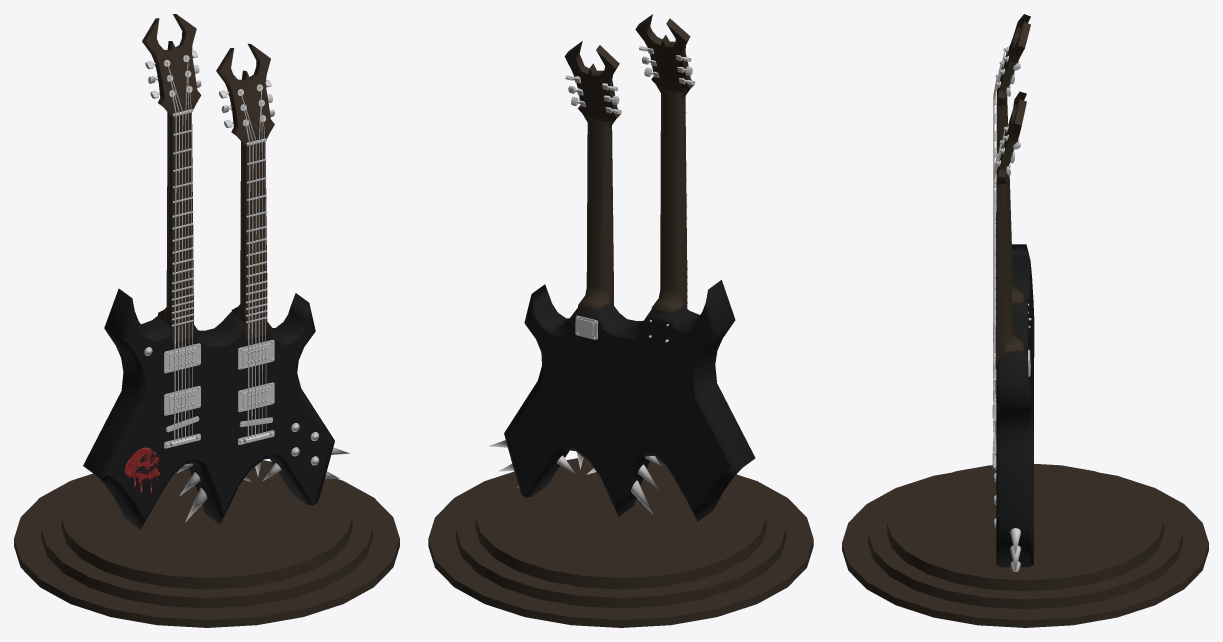
Rendered from guitardouble.glb.
3 renders of one model, left to right at view 1: azimuth 30°, elevation 25°; view 2: azimuth 150°, elevation 25°; view 3: azimuth 270°, elevation 25°, orthographic. The views are drawn at different scales.
Visible parts, largest first — view 1: pCylinder185, polySurface429_black_lack_0, polySurface429_darkwood_0, polySurface429_chrome_0, polySurface429_lambert8_0; view 2: pCylinder185, polySurface429_black_lack_0, polySurface429_darkwood_0, polySurface429_chrome_0; view 3: pCylinder185, polySurface429_black_lack_0, polySurface429_darkwood_0, polySurface429_chrome_0.
Boxes of the visible parts, <box> form: pCylinder185: <box>14,460,399,627</box>; polySurface429_black_lack_0: <box>83,288,334,529</box>; polySurface429_darkwood_0: <box>142,14,274,342</box>; polySurface429_chrome_0: <box>144,50,349,522</box>; polySurface429_lambert8_0: <box>125,447,159,492</box>; pCylinder185: <box>428,457,813,627</box>; polySurface429_black_lack_0: <box>504,280,755,521</box>; polySurface429_darkwood_0: <box>564,14,693,315</box>; polySurface429_chrome_0: <box>488,46,695,514</box>; pCylinder185: <box>842,463,1208,627</box>; polySurface429_black_lack_0: <box>996,244,1034,567</box>; polySurface429_darkwood_0: <box>995,14,1030,368</box>; polySurface429_chrome_0: <box>992,47,1031,571</box>.
Bounding box in the file's own units: 2.77 × 4.27 × 2.77.
Materials: 4 (1 with a texture image).
